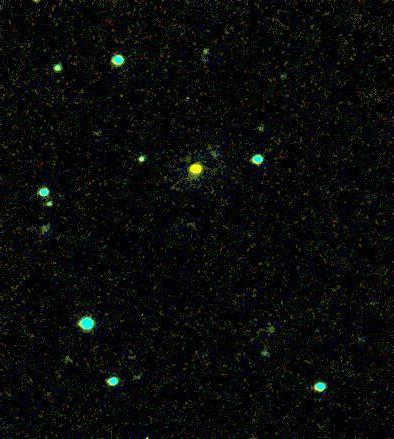star: (179, 159, 209, 189)
